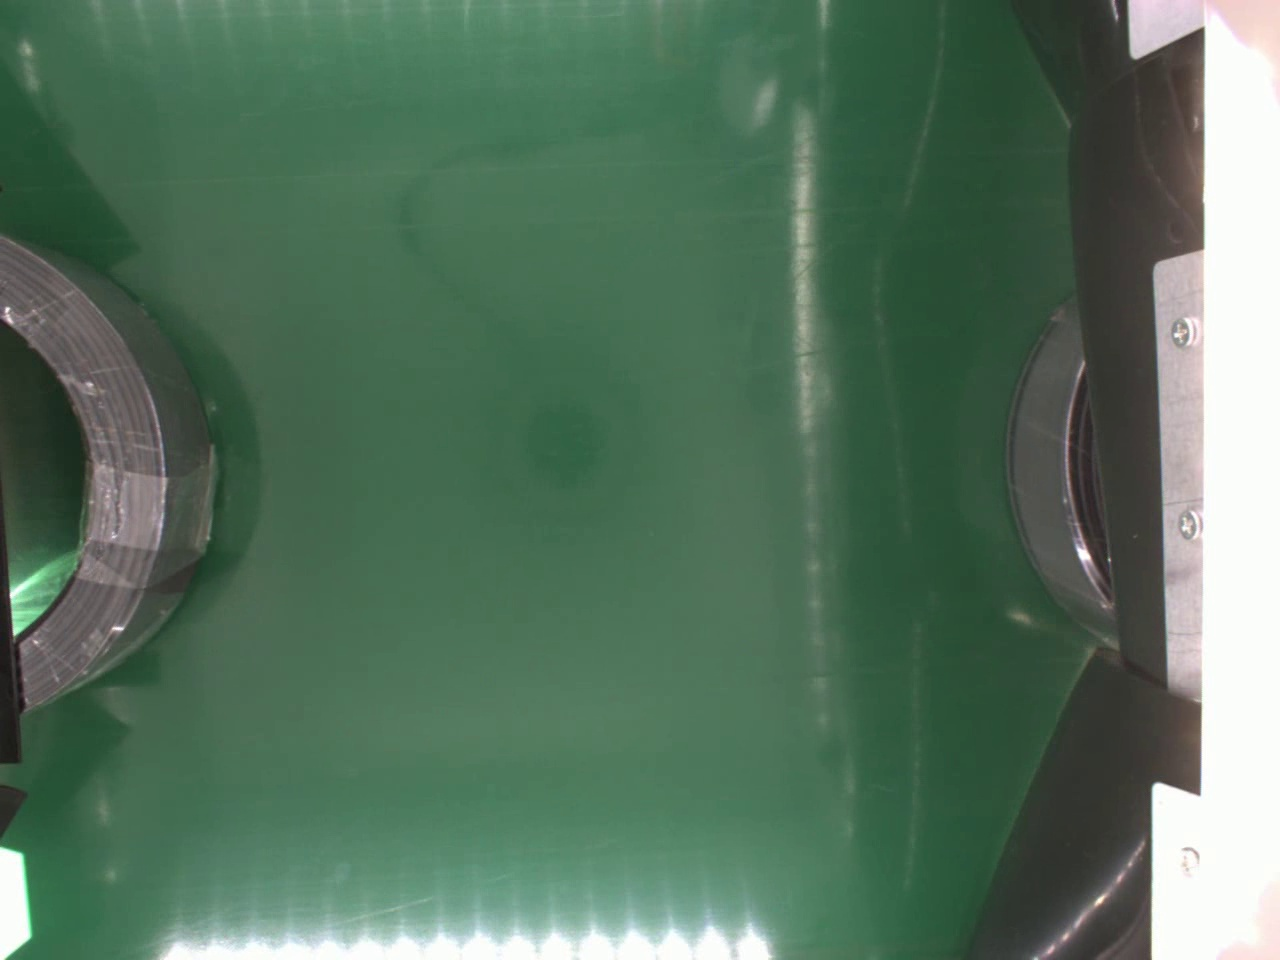black: (0, 228, 221, 718)
